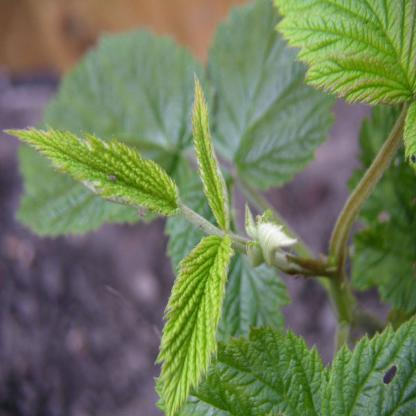Raspberry leaf: (0, 123, 180, 215), (274, 1, 415, 108), (154, 235, 232, 415)
